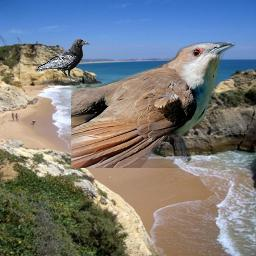Crow: (34, 38, 90, 82)
Cuckoo: (71, 42, 235, 168)
